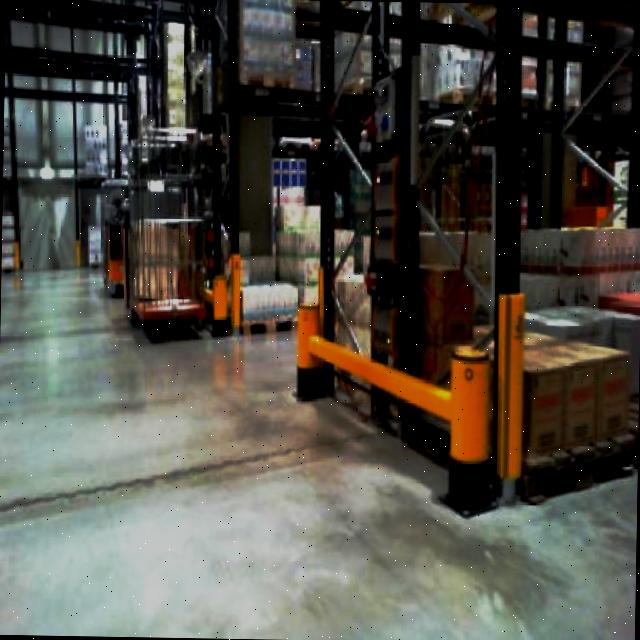ground: (0, 261, 640, 640)
pallet: (297, 0, 640, 513), (305, 315, 640, 504), (451, 322, 637, 464), (127, 212, 211, 340), (596, 285, 640, 466), (237, 252, 301, 335), (2, 119, 25, 273), (2, 208, 23, 273), (627, 384, 639, 469)
